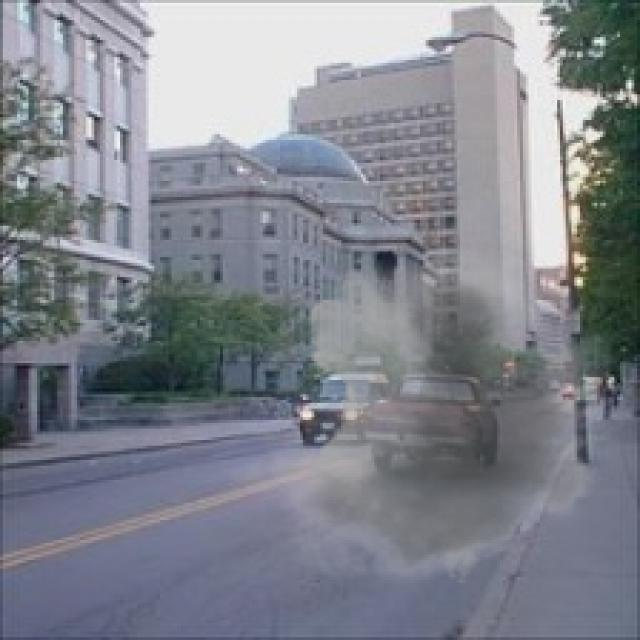smoke: (226, 246, 634, 597)
